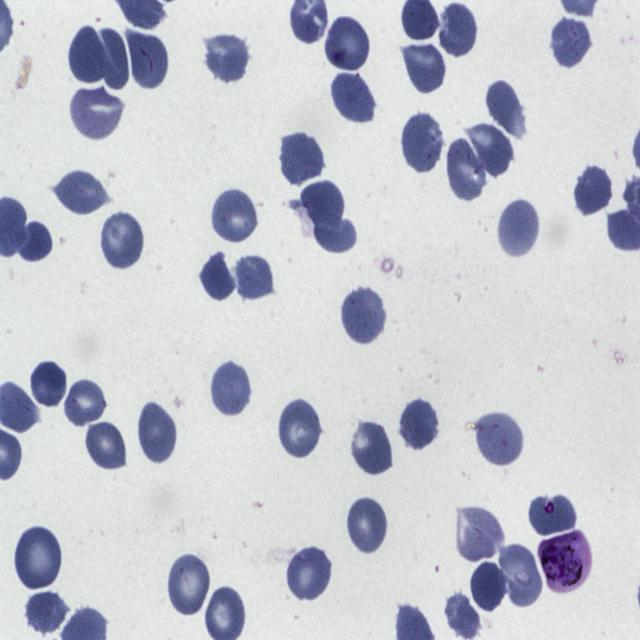red blood cell: (14, 522, 64, 592), (165, 550, 212, 620), (497, 542, 544, 611), (444, 134, 489, 205), (473, 408, 525, 469), (209, 185, 260, 246), (339, 284, 388, 347), (453, 504, 504, 564), (285, 542, 334, 604), (277, 396, 323, 462), (482, 76, 528, 142), (464, 120, 514, 180), (400, 108, 444, 176), (99, 208, 146, 271), (496, 193, 540, 260), (50, 168, 111, 216), (70, 88, 124, 141), (136, 399, 178, 466), (67, 24, 112, 86), (324, 14, 372, 72), (346, 494, 390, 557), (126, 28, 170, 91), (400, 39, 448, 96), (209, 358, 253, 419), (278, 129, 324, 187), (329, 70, 377, 125), (350, 419, 394, 478), (202, 30, 250, 84), (526, 494, 581, 540), (90, 28, 130, 90), (83, 420, 129, 473), (64, 375, 108, 430), (572, 163, 614, 220), (438, 1, 478, 60), (310, 206, 358, 255), (550, 16, 593, 70), (398, 396, 440, 451), (232, 251, 276, 303), (198, 250, 238, 304), (300, 178, 345, 226), (469, 560, 508, 614), (4, 220, 54, 262), (23, 592, 69, 636), (30, 360, 68, 409), (444, 591, 482, 640)
schizont: (536, 529, 593, 595)
